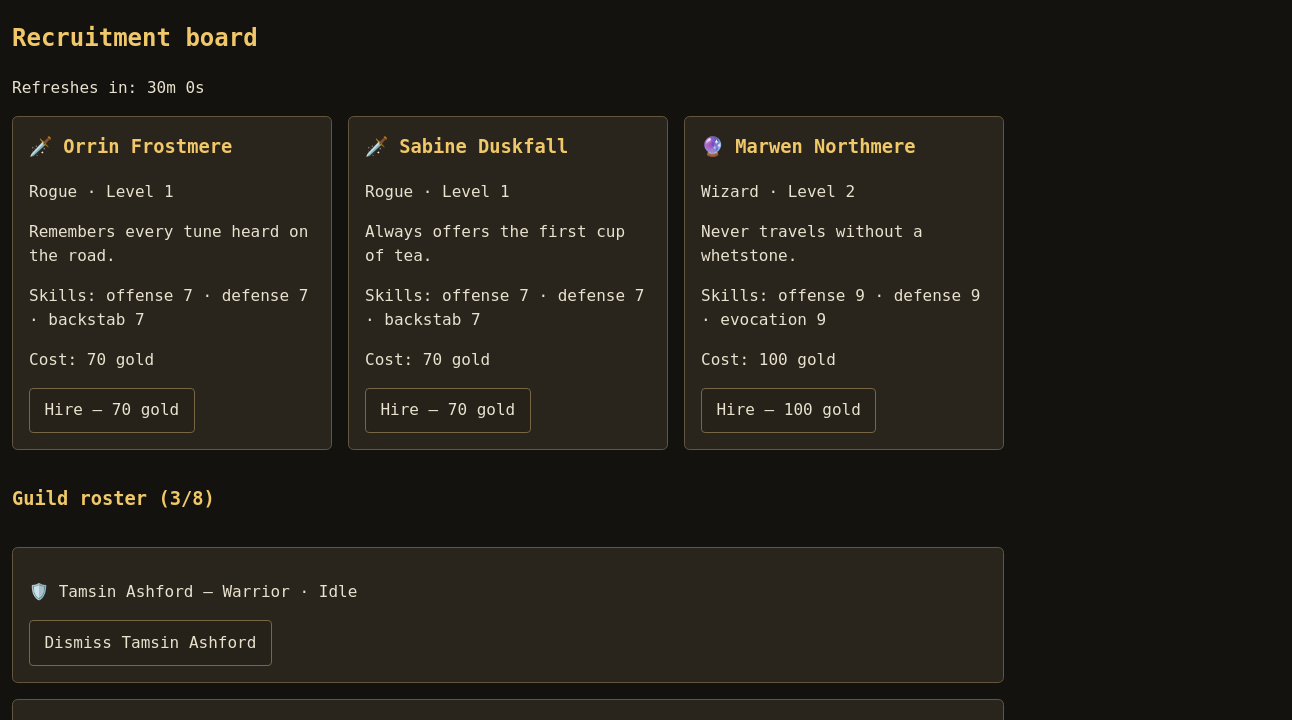
Test: RecruitBoard › hires a candidate and requires confirmation before dismissing a hero
The image size is (1292, 720).
Check: the text "Refreshes in: 30m 0s" is shown, box [12,78,205,97]
Click the button "Hire — 70 gold" below "Remembers every tune heard on the road." at (112, 410), box [29,388,195,433]
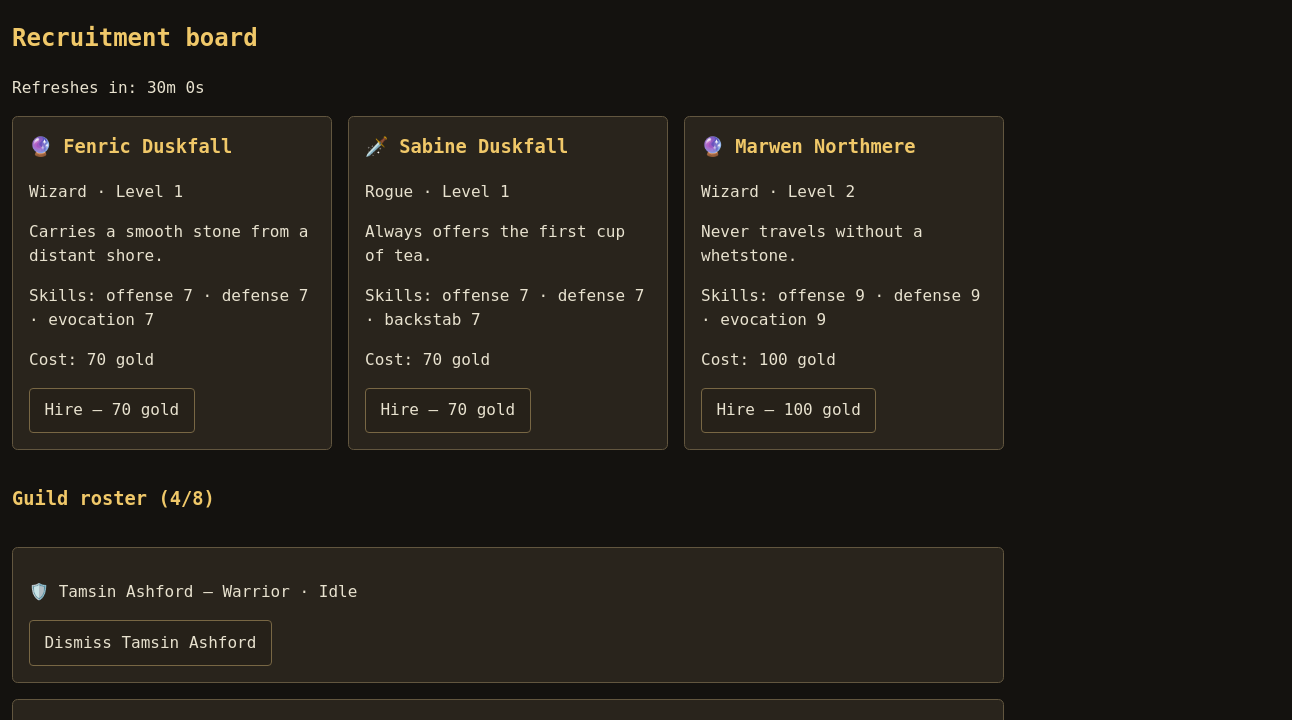
Check: the heading "Guild roster (4/8)" is shown, box [12,488,215,508]
Click the button "Dismiss Tamsin Ashford" at (150, 643), box [29,620,272,666]
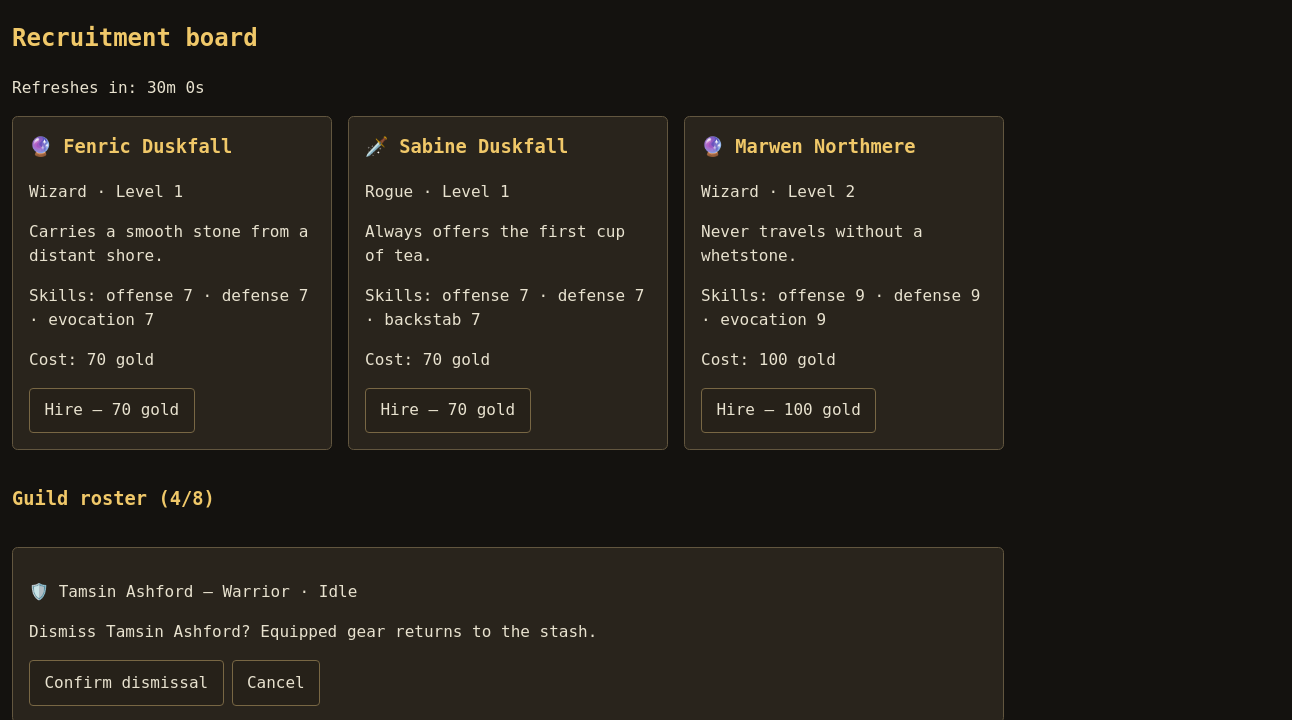
Click the button "Confirm dismissal" at (126, 683), box [29,660,224,706]
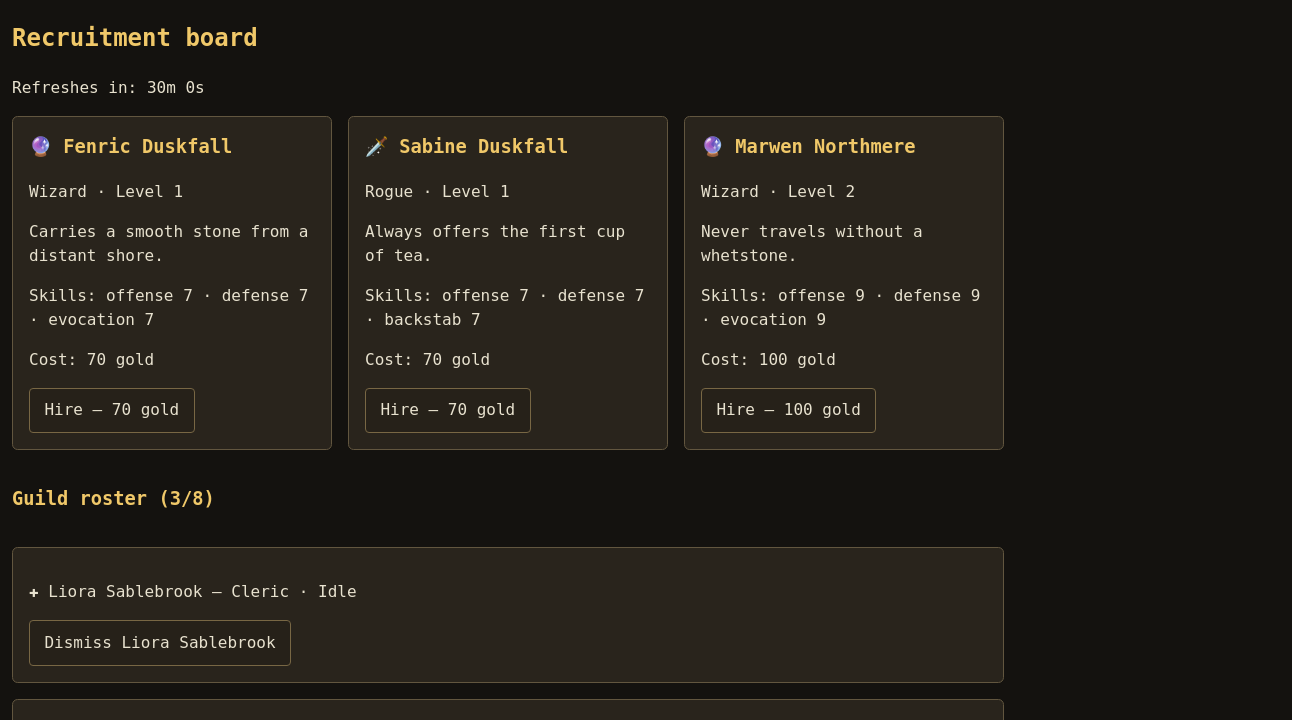
Check: the heading "Guild roster (3/8)" is shown, box [12,488,215,508]
